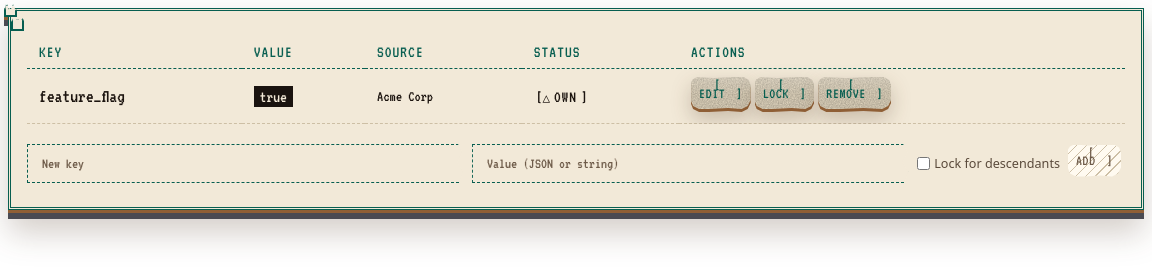
Test: ConfigEditor remove › keeps the key and returns focus to Remove when the user selects Keep
The width and height of the screenshot is (1152, 268).
Check: the text "feature_flag" is shown, box [27,68,242,124]
Click the button "Remove" at (855, 93), box [818,77,891,109]
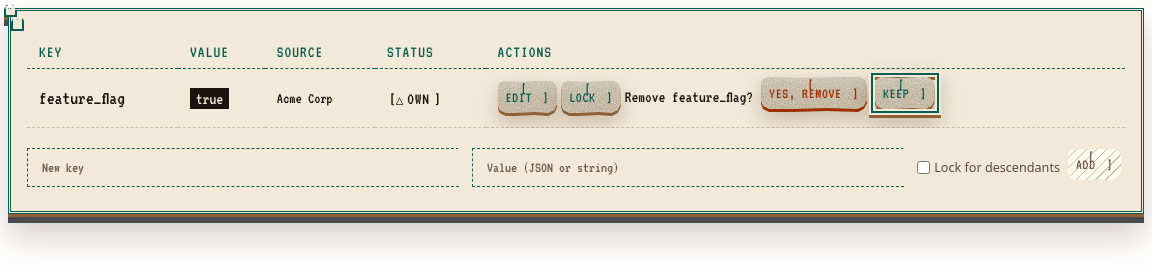
Click the button "Keep" at (905, 93), box [875,77,934,109]
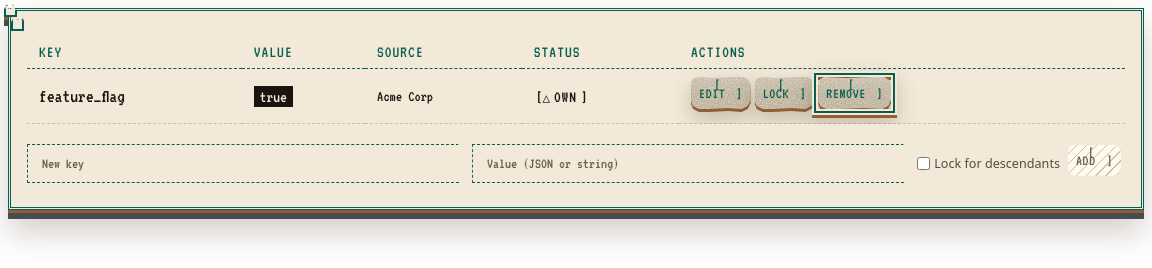
Check: the text "Remove feature_flag?" is gone
